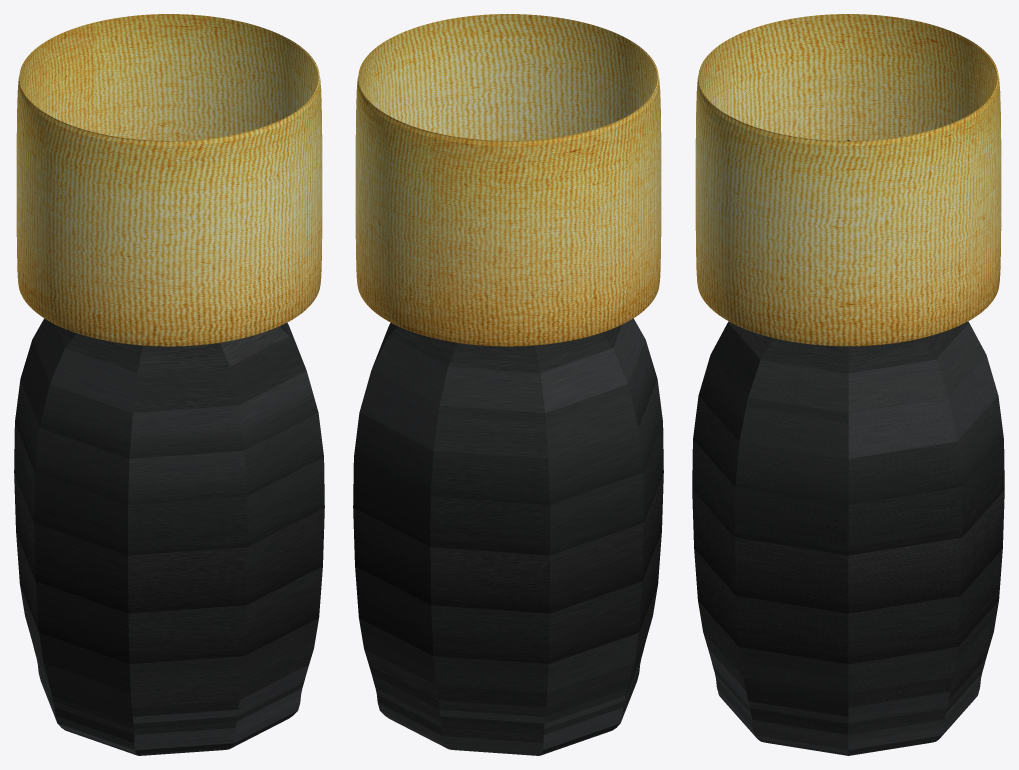
The model's file is Lamp1.fbx.
3 renders of one model, left to right at view 1: azimuth 30°, elevation 25°; view 2: azimuth 150°, elevation 25°; view 3: azimuth 270°, elevation 25°, orthographic.
Visible parts, largest first — view 1: Cube, Cylinder; view 2: Cube, Cylinder; view 3: Cube, Cylinder.
Boxes of the visible parts, x1,y1,x2,y2 form: Cube: (14, 318, 324, 755); Cylinder: (16, 14, 322, 346); Cube: (353, 318, 663, 755); Cylinder: (355, 14, 661, 346); Cube: (692, 321, 1004, 755); Cylinder: (695, 14, 1001, 346).
Size of the model in its own units: 244 by 545 by 244.
